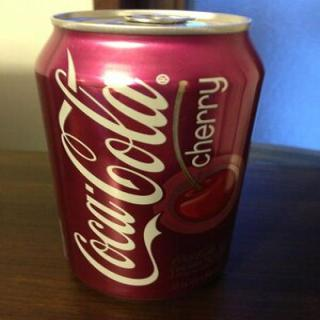Anorganik: (44, 7, 266, 314)
